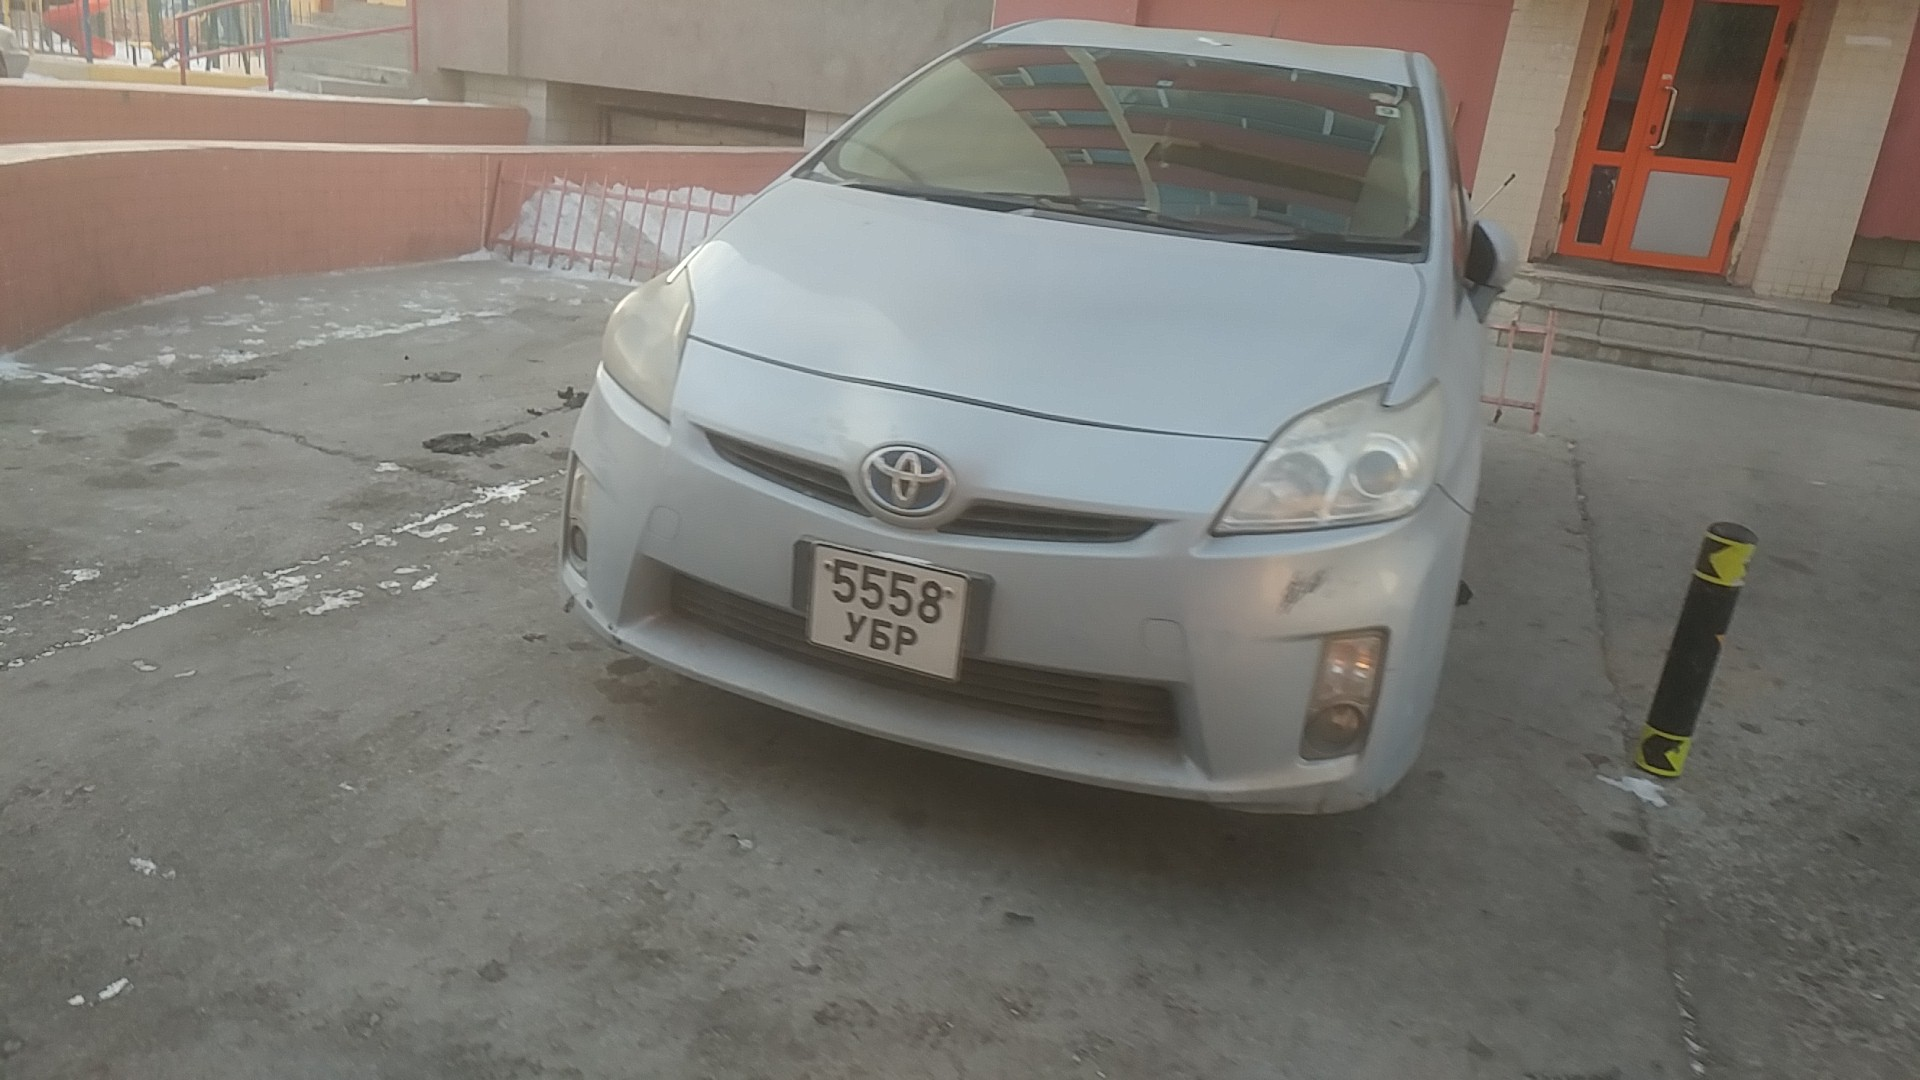5: (860, 563, 887, 612), (889, 569, 915, 618), (831, 556, 858, 604)
8: (917, 579, 943, 625)
b: (868, 617, 892, 652)
plate: (802, 536, 970, 687)
r: (893, 624, 919, 658)
u: (844, 608, 867, 644)
